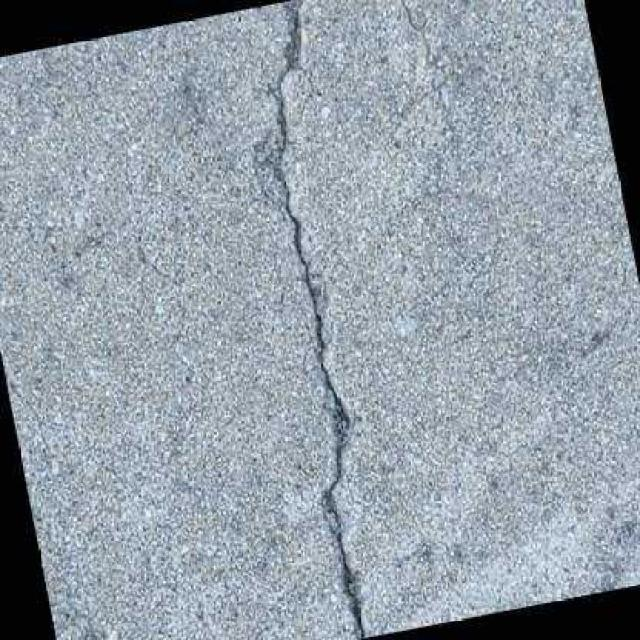D00: (267, 0, 368, 639)
